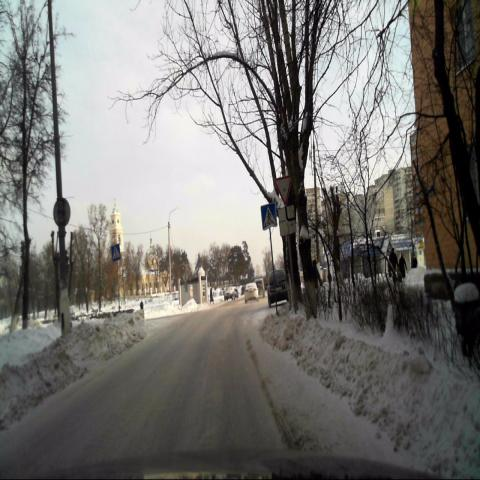8_13: (278, 205, 297, 236)
